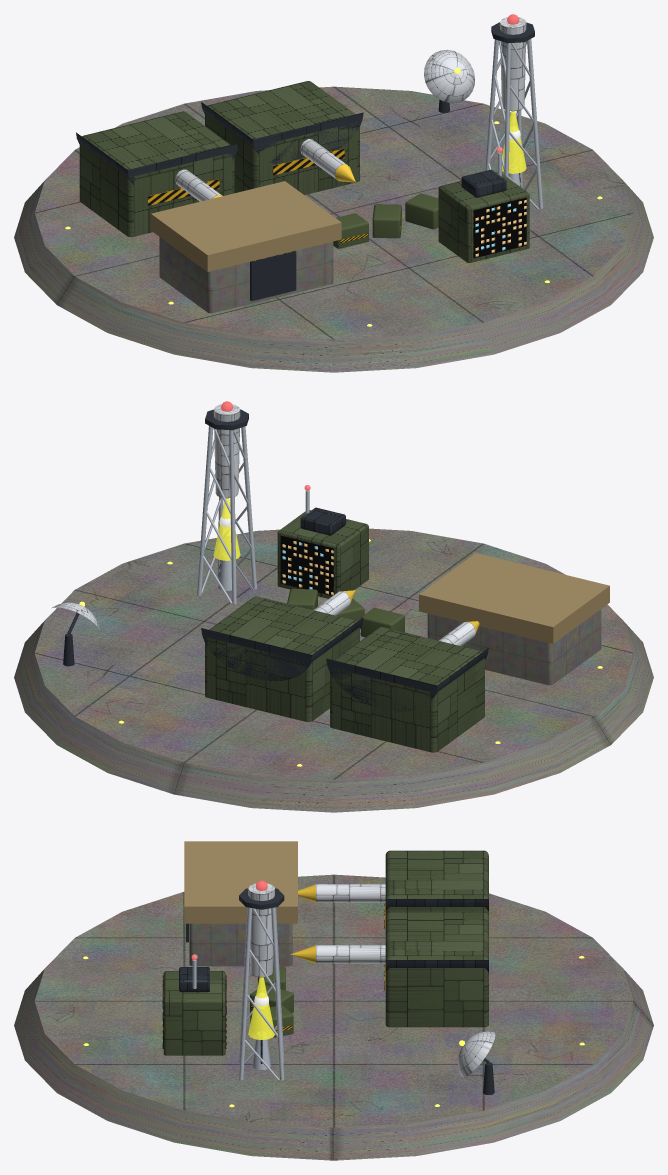
The model's file is ammo-T3.glb.
3 views of the same model, one above another, from view 1: azimuth 30°, elevation 25°; view 2: azimuth 150°, elevation 25°; view 3: azimuth 270°, elevation 25° (orthographic).
Parts seen in each view (by area): view 1: object 1, object 12, object 23, object 17, object 22, object 68, object 69, object 18, anim:rot, object 24, object 60, object 13 (+10 smaller); view 2: object 1, object 12, object 17, object 23, object 22, object 18, object 68, object 70, object 13, object 60, object 71, object 74 (+1 smaller); view 3: object 1, object 17, object 23, object 12, object 68, object 22, object 60, object 15, object 20, anim:rot, anim:flame, object 18 (+4 smaller).
Part boxes in pixels (x1,y1,x2,y2): object 1: (14, 86, 653, 372); object 12: (79, 111, 234, 236); object 23: (151, 181, 341, 271); object 17: (205, 81, 359, 194); object 22: (159, 237, 333, 313); object 68: (438, 172, 529, 262); object 69: (473, 197, 526, 258); object 18: (201, 102, 363, 164); anim:rot: (424, 49, 474, 103); object 24: (250, 251, 296, 301); object 60: (499, 17, 526, 111); object 13: (76, 132, 238, 185); object 1: (14, 528, 653, 812); object 12: (330, 627, 484, 752); object 17: (205, 596, 359, 721); object 23: (419, 553, 609, 643); object 22: (427, 609, 601, 685); object 18: (201, 617, 363, 681); object 68: (277, 510, 368, 598); object 70: (280, 535, 334, 595); object 13: (326, 648, 488, 711); object 60: (213, 404, 240, 498); object 71: (300, 507, 345, 535); object 74: (361, 608, 404, 637); object 1: (14, 874, 653, 1160); object 17: (385, 911, 488, 1027); object 23: (184, 841, 297, 923); object 12: (385, 850, 488, 916); object 68: (163, 971, 225, 1055); object 22: (189, 923, 292, 966); object 60: (248, 883, 274, 977); object 15: (316, 884, 385, 902); object 20: (316, 945, 385, 963); anim:rot: (458, 1031, 495, 1077); anim:flame: (248, 977, 274, 1039); object 18: (385, 960, 488, 973).
Bounding box in the file's own units: 6.2 × 2.29 × 6.2.
17 materials, 7 textured.
